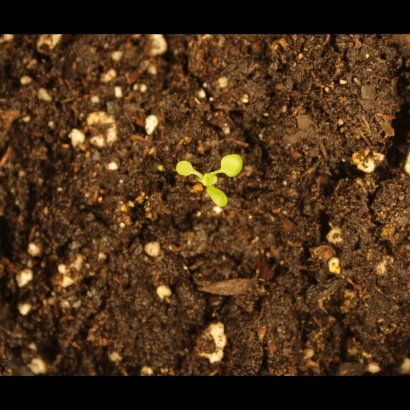leaf: (221, 146, 247, 181), (204, 185, 232, 214), (175, 155, 198, 178), (197, 166, 220, 189)
